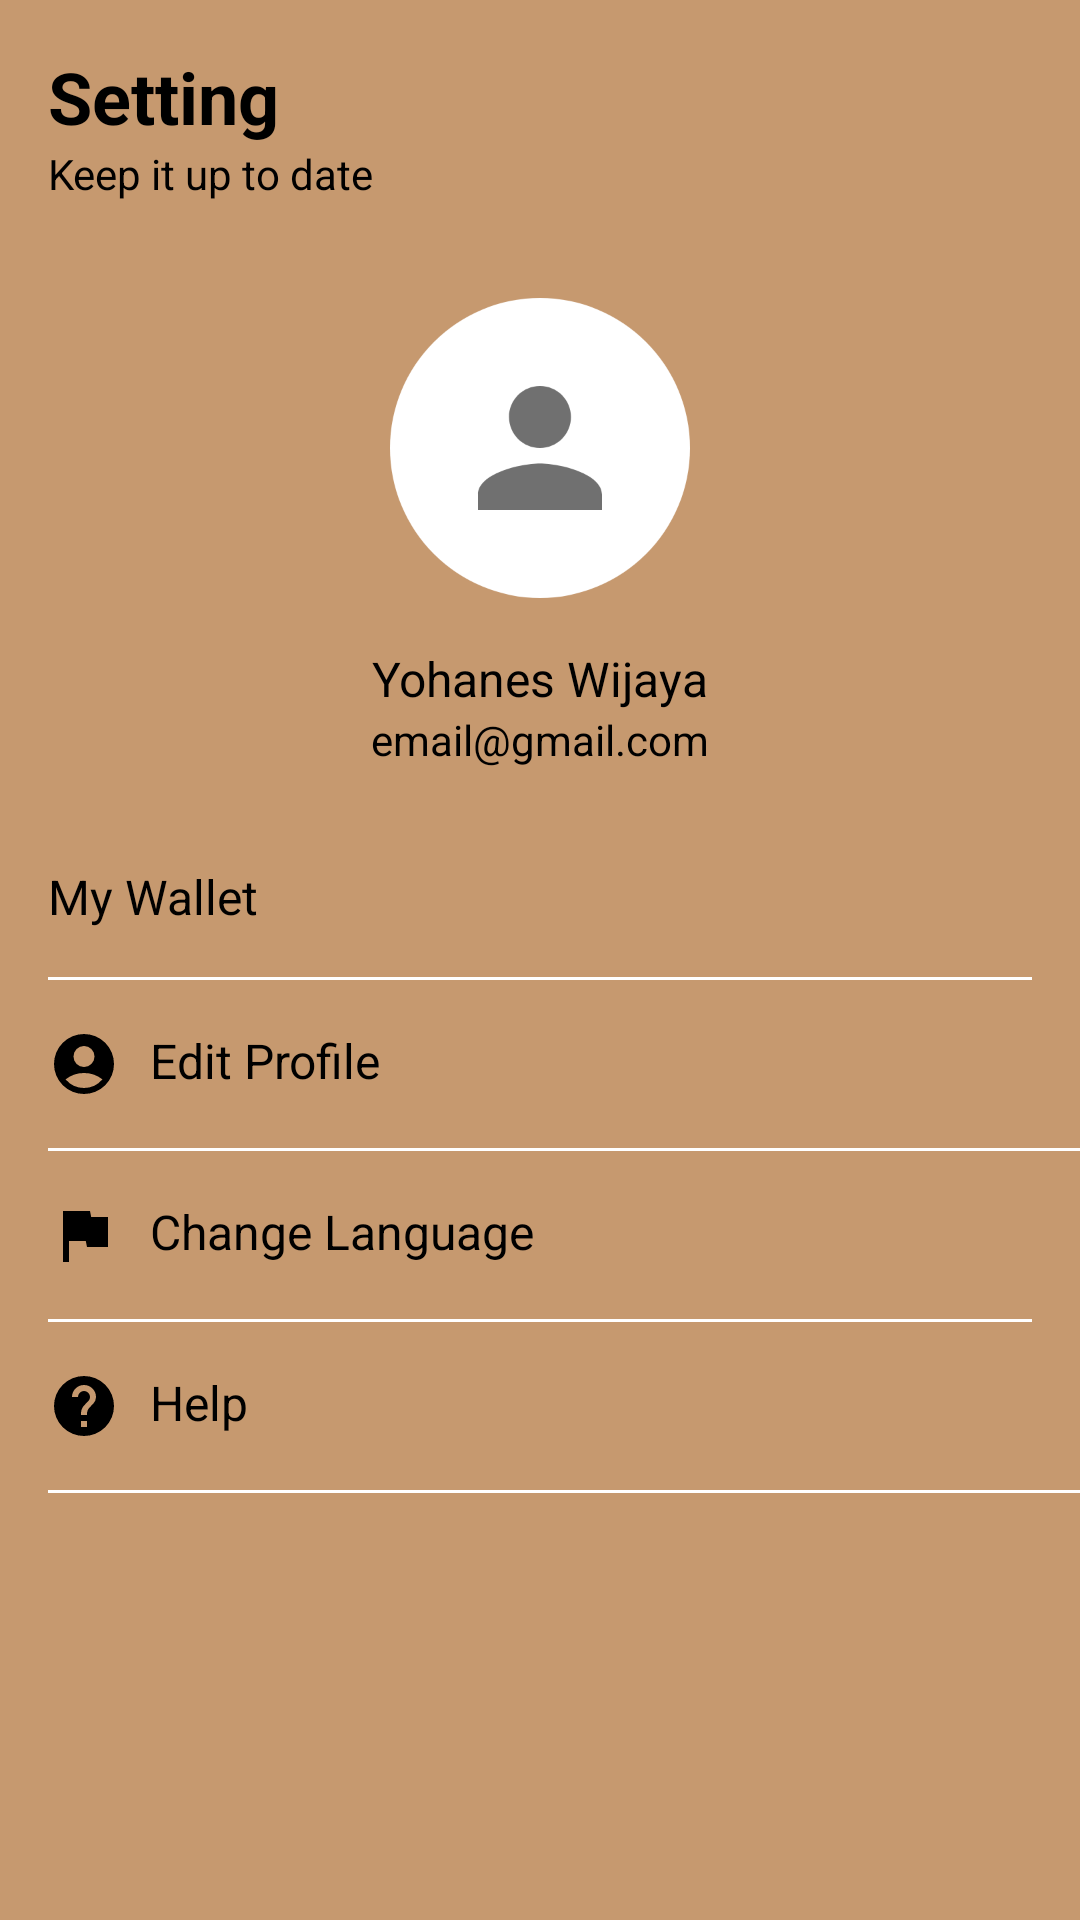

Icon bounding boxes for this 1080 × 1920 phone screenshot, format bbox(x1, y1, x2, y2):
user pic: bbox(390, 298, 690, 598)
